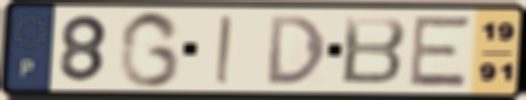8: (57, 13, 109, 85)
B: (338, 14, 409, 88)
D: (266, 13, 330, 87)
E: (405, 14, 475, 89)
G: (116, 9, 184, 90)
I: (213, 13, 234, 87)
